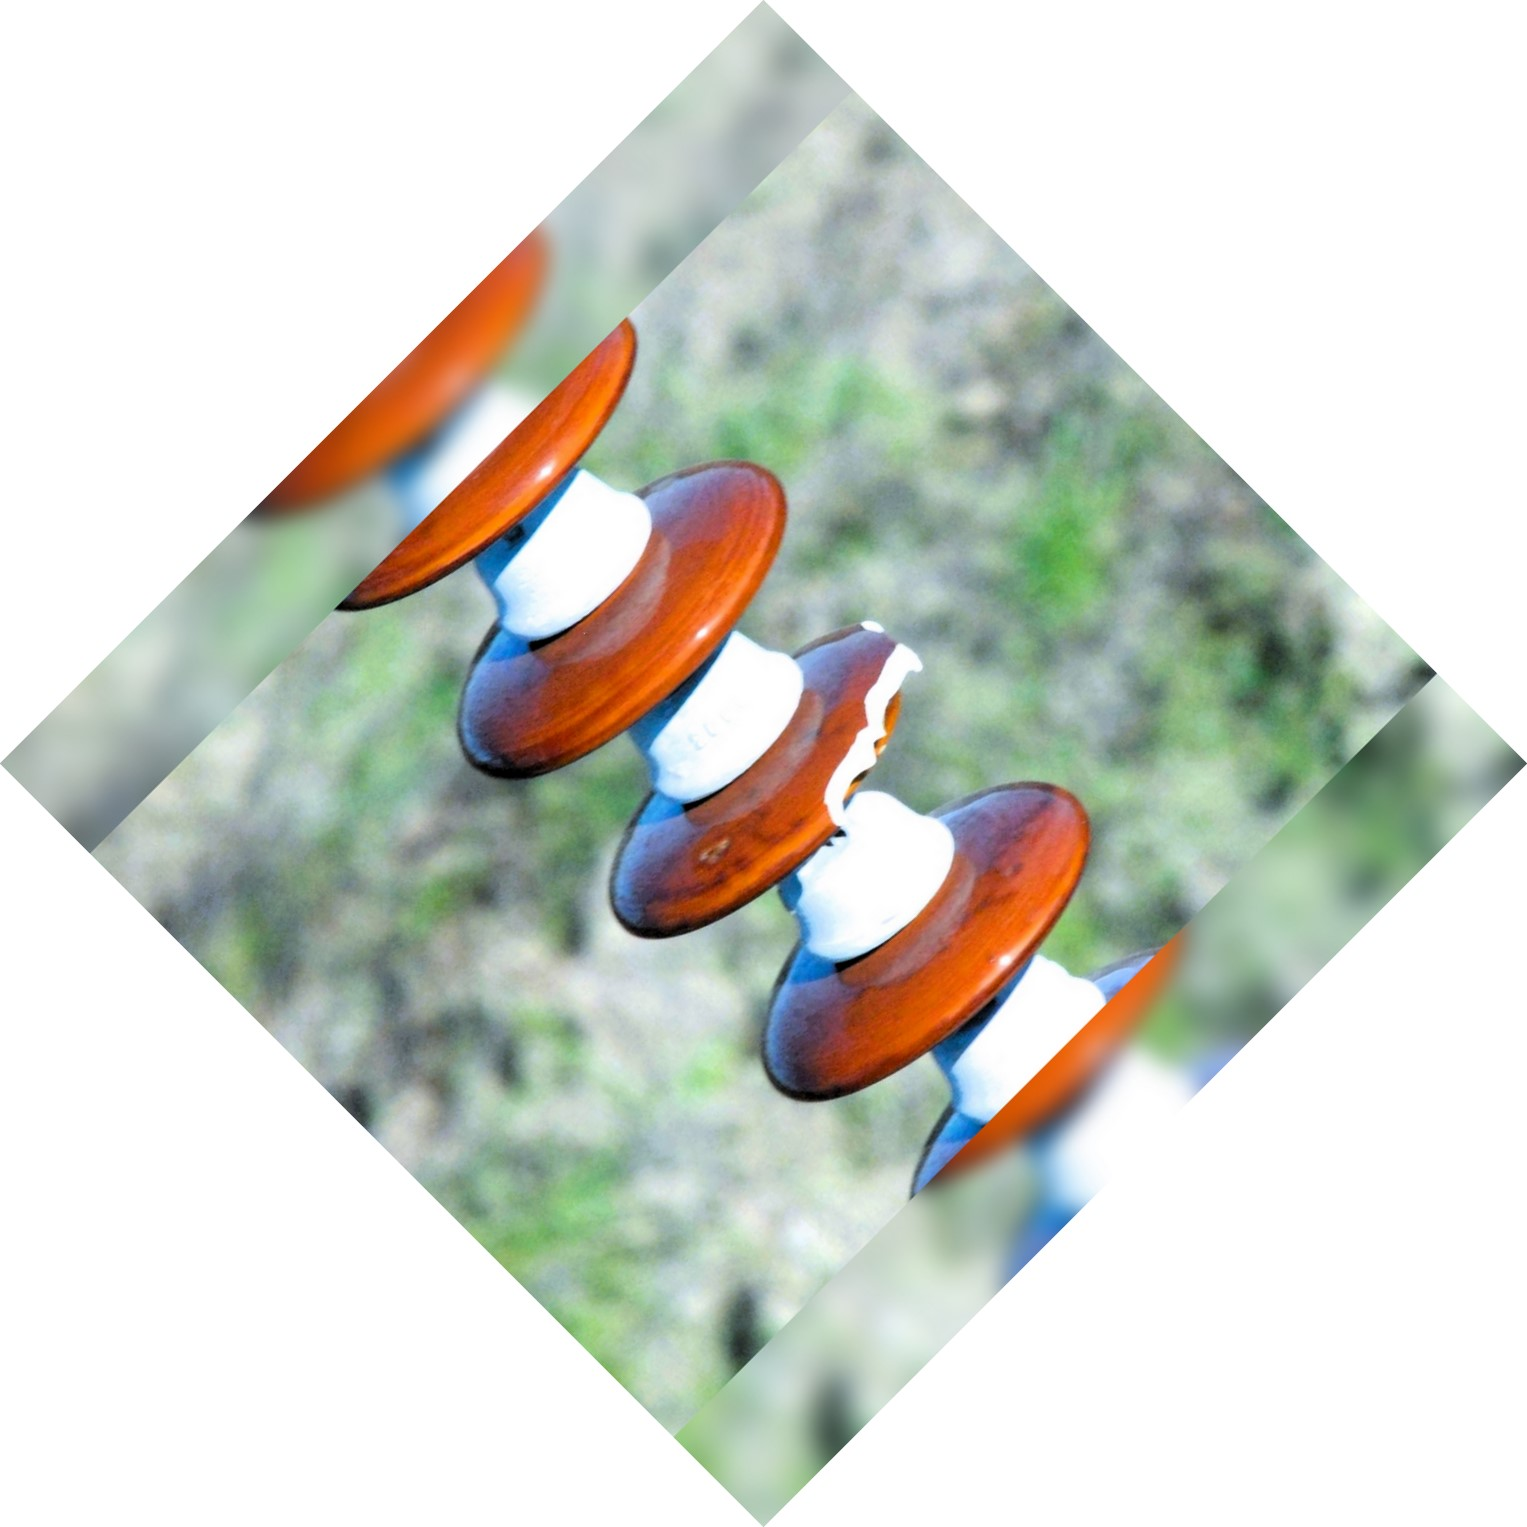insulator breakage: (596, 601, 947, 942)
